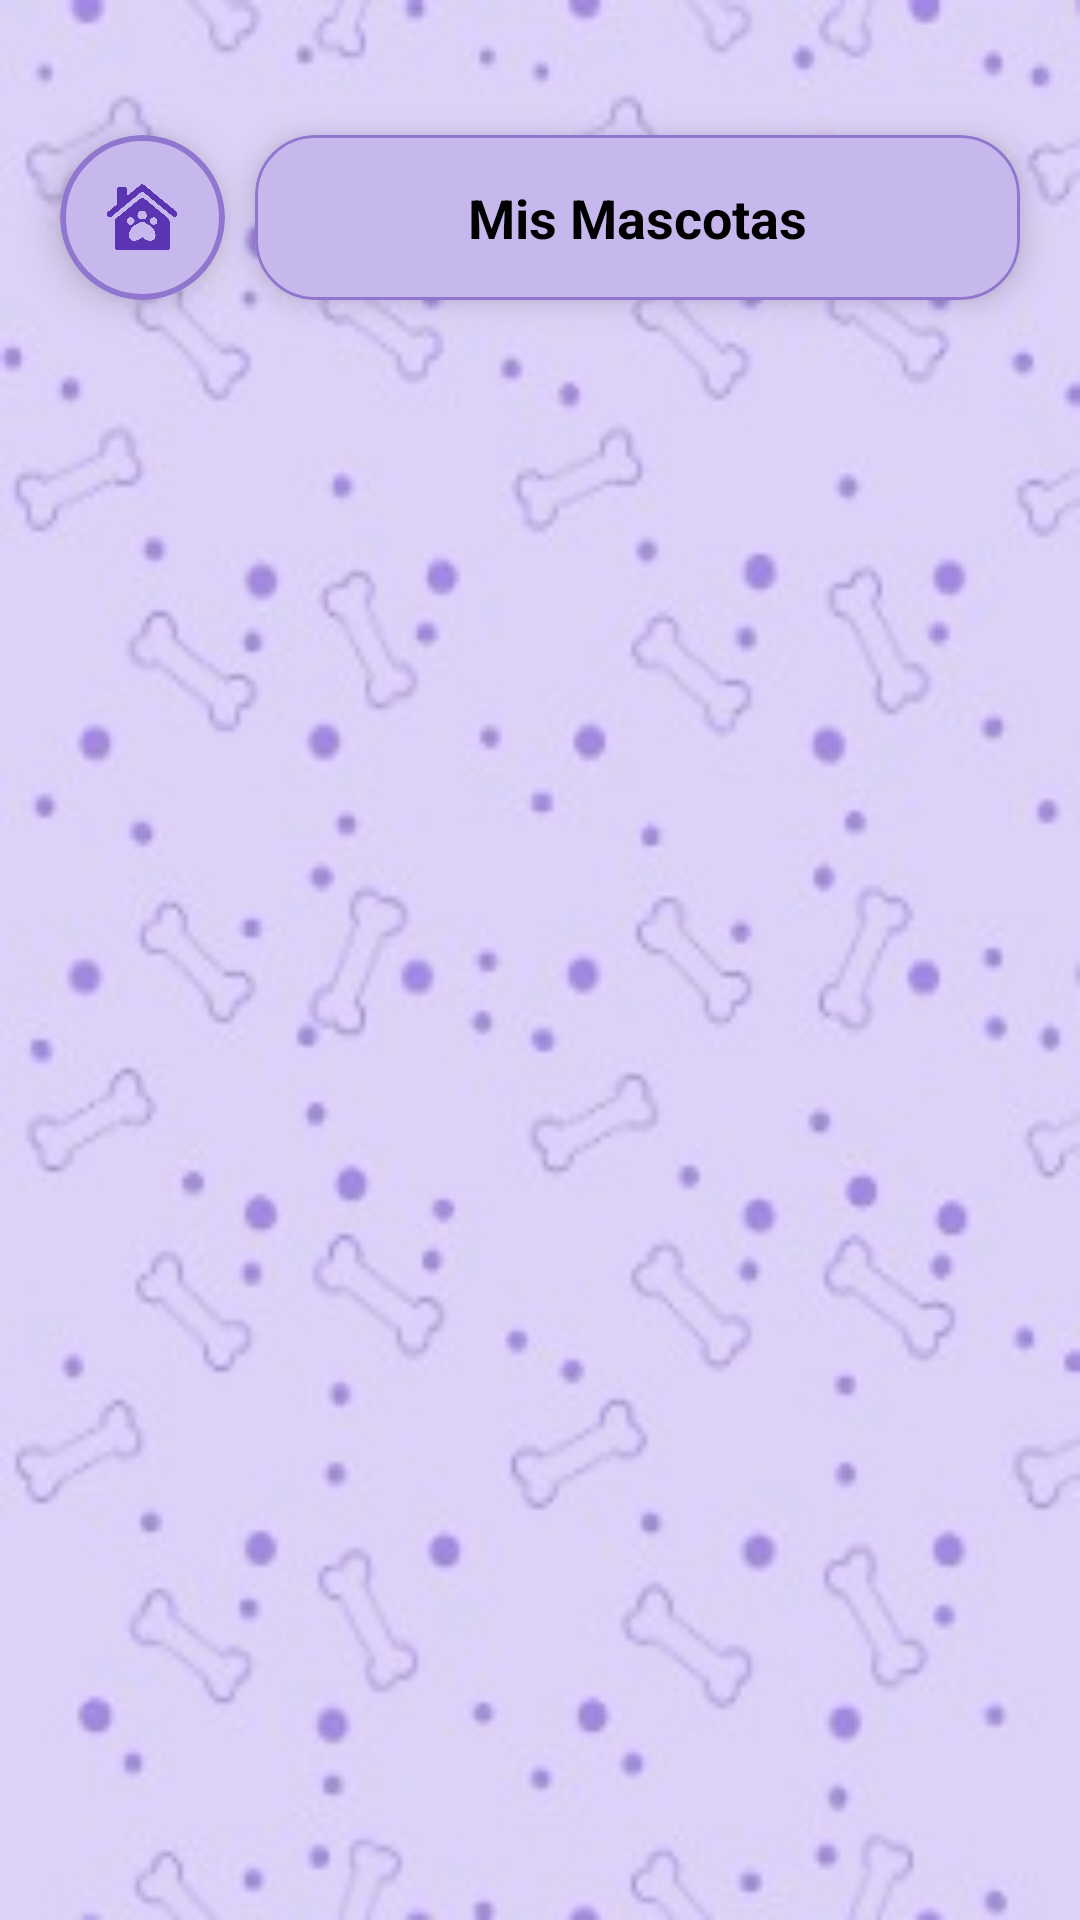

Named icons in this screenshot (1080×1920) and their bounding boxes, (x1, y1, x2, y2):
Volver al inicio: (60, 135, 225, 300)
